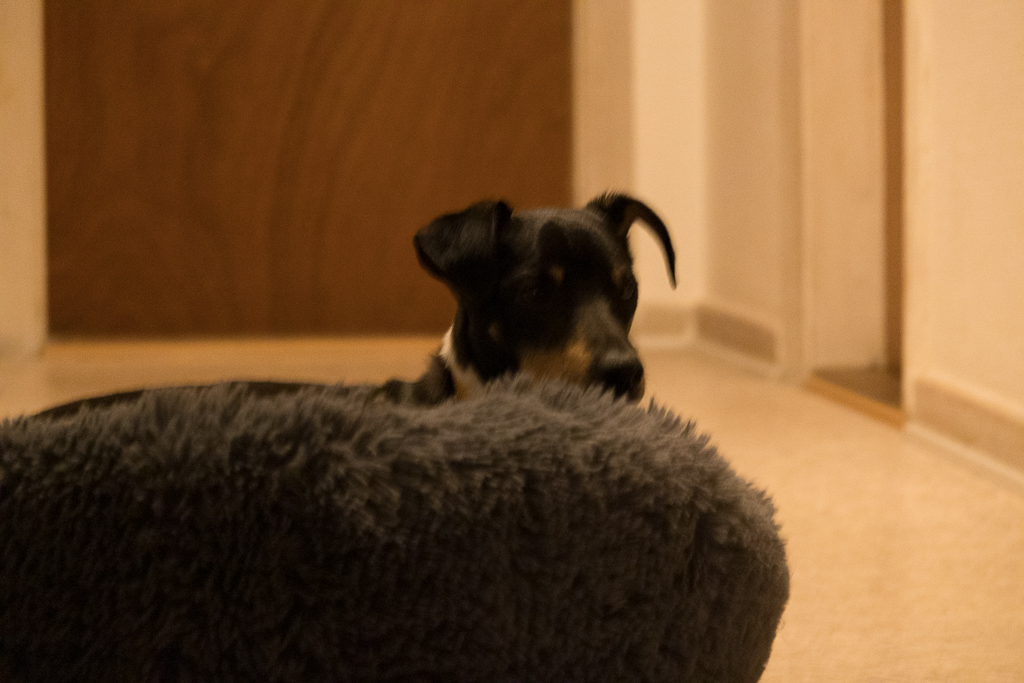Dog: (20, 188, 684, 428)
